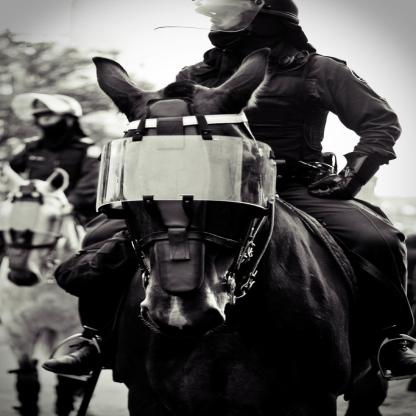Helmet: (182, 0, 302, 33), (14, 91, 86, 124)
